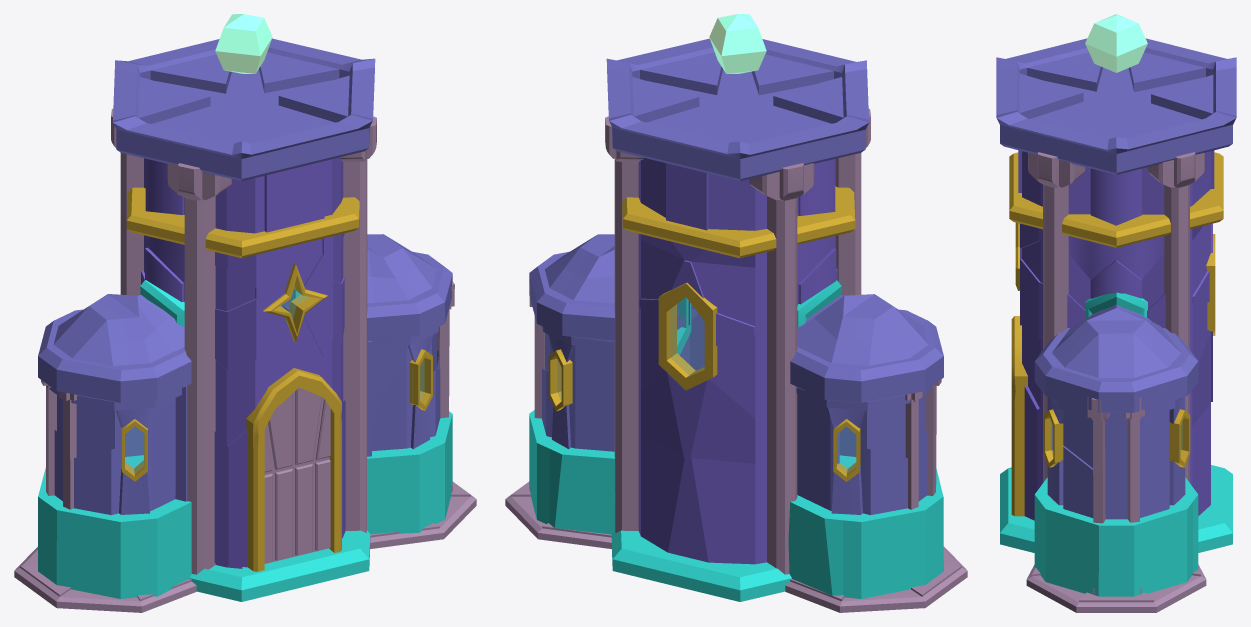
The model's file is upgradedTower.fbx.
3 renders of one model, left to right at view 1: azimuth 30°, elevation 25°; view 2: azimuth 150°, elevation 25°; view 3: azimuth 270°, elevation 25°, orthographic. The views are drawn at different scales.
Visible parts, largest first — view 1: Wing, Cylinder, Top, pillars, Wing1, door, doorFrame, Base, bannister, moreBase, pillarsA1, lesserOrb (+5 smaller); view 2: Cylinder, Wing, Top, pillars, Wing1, Base, bannister, moreBase, otherWinFrame, lesserOrb, pillarsA, Glass4 (+4 smaller); view 3: Top, Wing, Cylinder, Wing1, pillars, bannister, Base, moreBase, doorFrame, lesserOrb, winFrame, pillarsA1 (+3 smaller).
Boxes of the visible parts, bbox=[...] form: Wing: bbox=[38, 234, 452, 515]; Cylinder: bbox=[141, 157, 345, 568]; Top: bbox=[112, 38, 375, 181]; pillars: bbox=[111, 109, 376, 574]; Wing1: bbox=[38, 411, 452, 598]; door: bbox=[264, 387, 330, 563]; doorFrame: bbox=[246, 368, 341, 571]; Base: bbox=[189, 530, 370, 601]; bannister: bbox=[126, 187, 359, 258]; moreBase: bbox=[14, 481, 476, 612]; pillarsA1: bbox=[59, 281, 454, 509]; lesserOrb: bbox=[215, 14, 272, 73]; Cylinder: bbox=[638, 158, 837, 564]; Wing: bbox=[529, 234, 943, 515]; Top: bbox=[606, 38, 869, 181]; pillars: bbox=[605, 109, 870, 574]; Wing1: bbox=[529, 410, 943, 598]; Base: bbox=[611, 530, 791, 601]; bannister: bbox=[622, 186, 855, 258]; moreBase: bbox=[505, 481, 967, 612]; otherWinFrame: bbox=[658, 282, 717, 390]; lesserOrb: bbox=[709, 14, 766, 73]; pillarsA: bbox=[529, 284, 922, 509]; Glass4: bbox=[670, 297, 704, 374]; Top: bbox=[996, 38, 1236, 174]; Wing: bbox=[1034, 304, 1198, 519]; Cylinder: bbox=[1018, 150, 1214, 520]; Wing1: bbox=[1034, 477, 1198, 596]; pillars: bbox=[1028, 152, 1204, 482]; bannister: bbox=[1009, 152, 1223, 247]; Base: bbox=[1000, 465, 1232, 552]; moreBase: bbox=[1026, 564, 1206, 612]; doorFrame: bbox=[1011, 316, 1027, 516]; lesserOrb: bbox=[1085, 14, 1147, 72]; winFrame: bbox=[1043, 409, 1190, 467]; pillarsA1: bbox=[1087, 397, 1109, 594].
Size of the model in its own units: 512 by 614 by 267.
